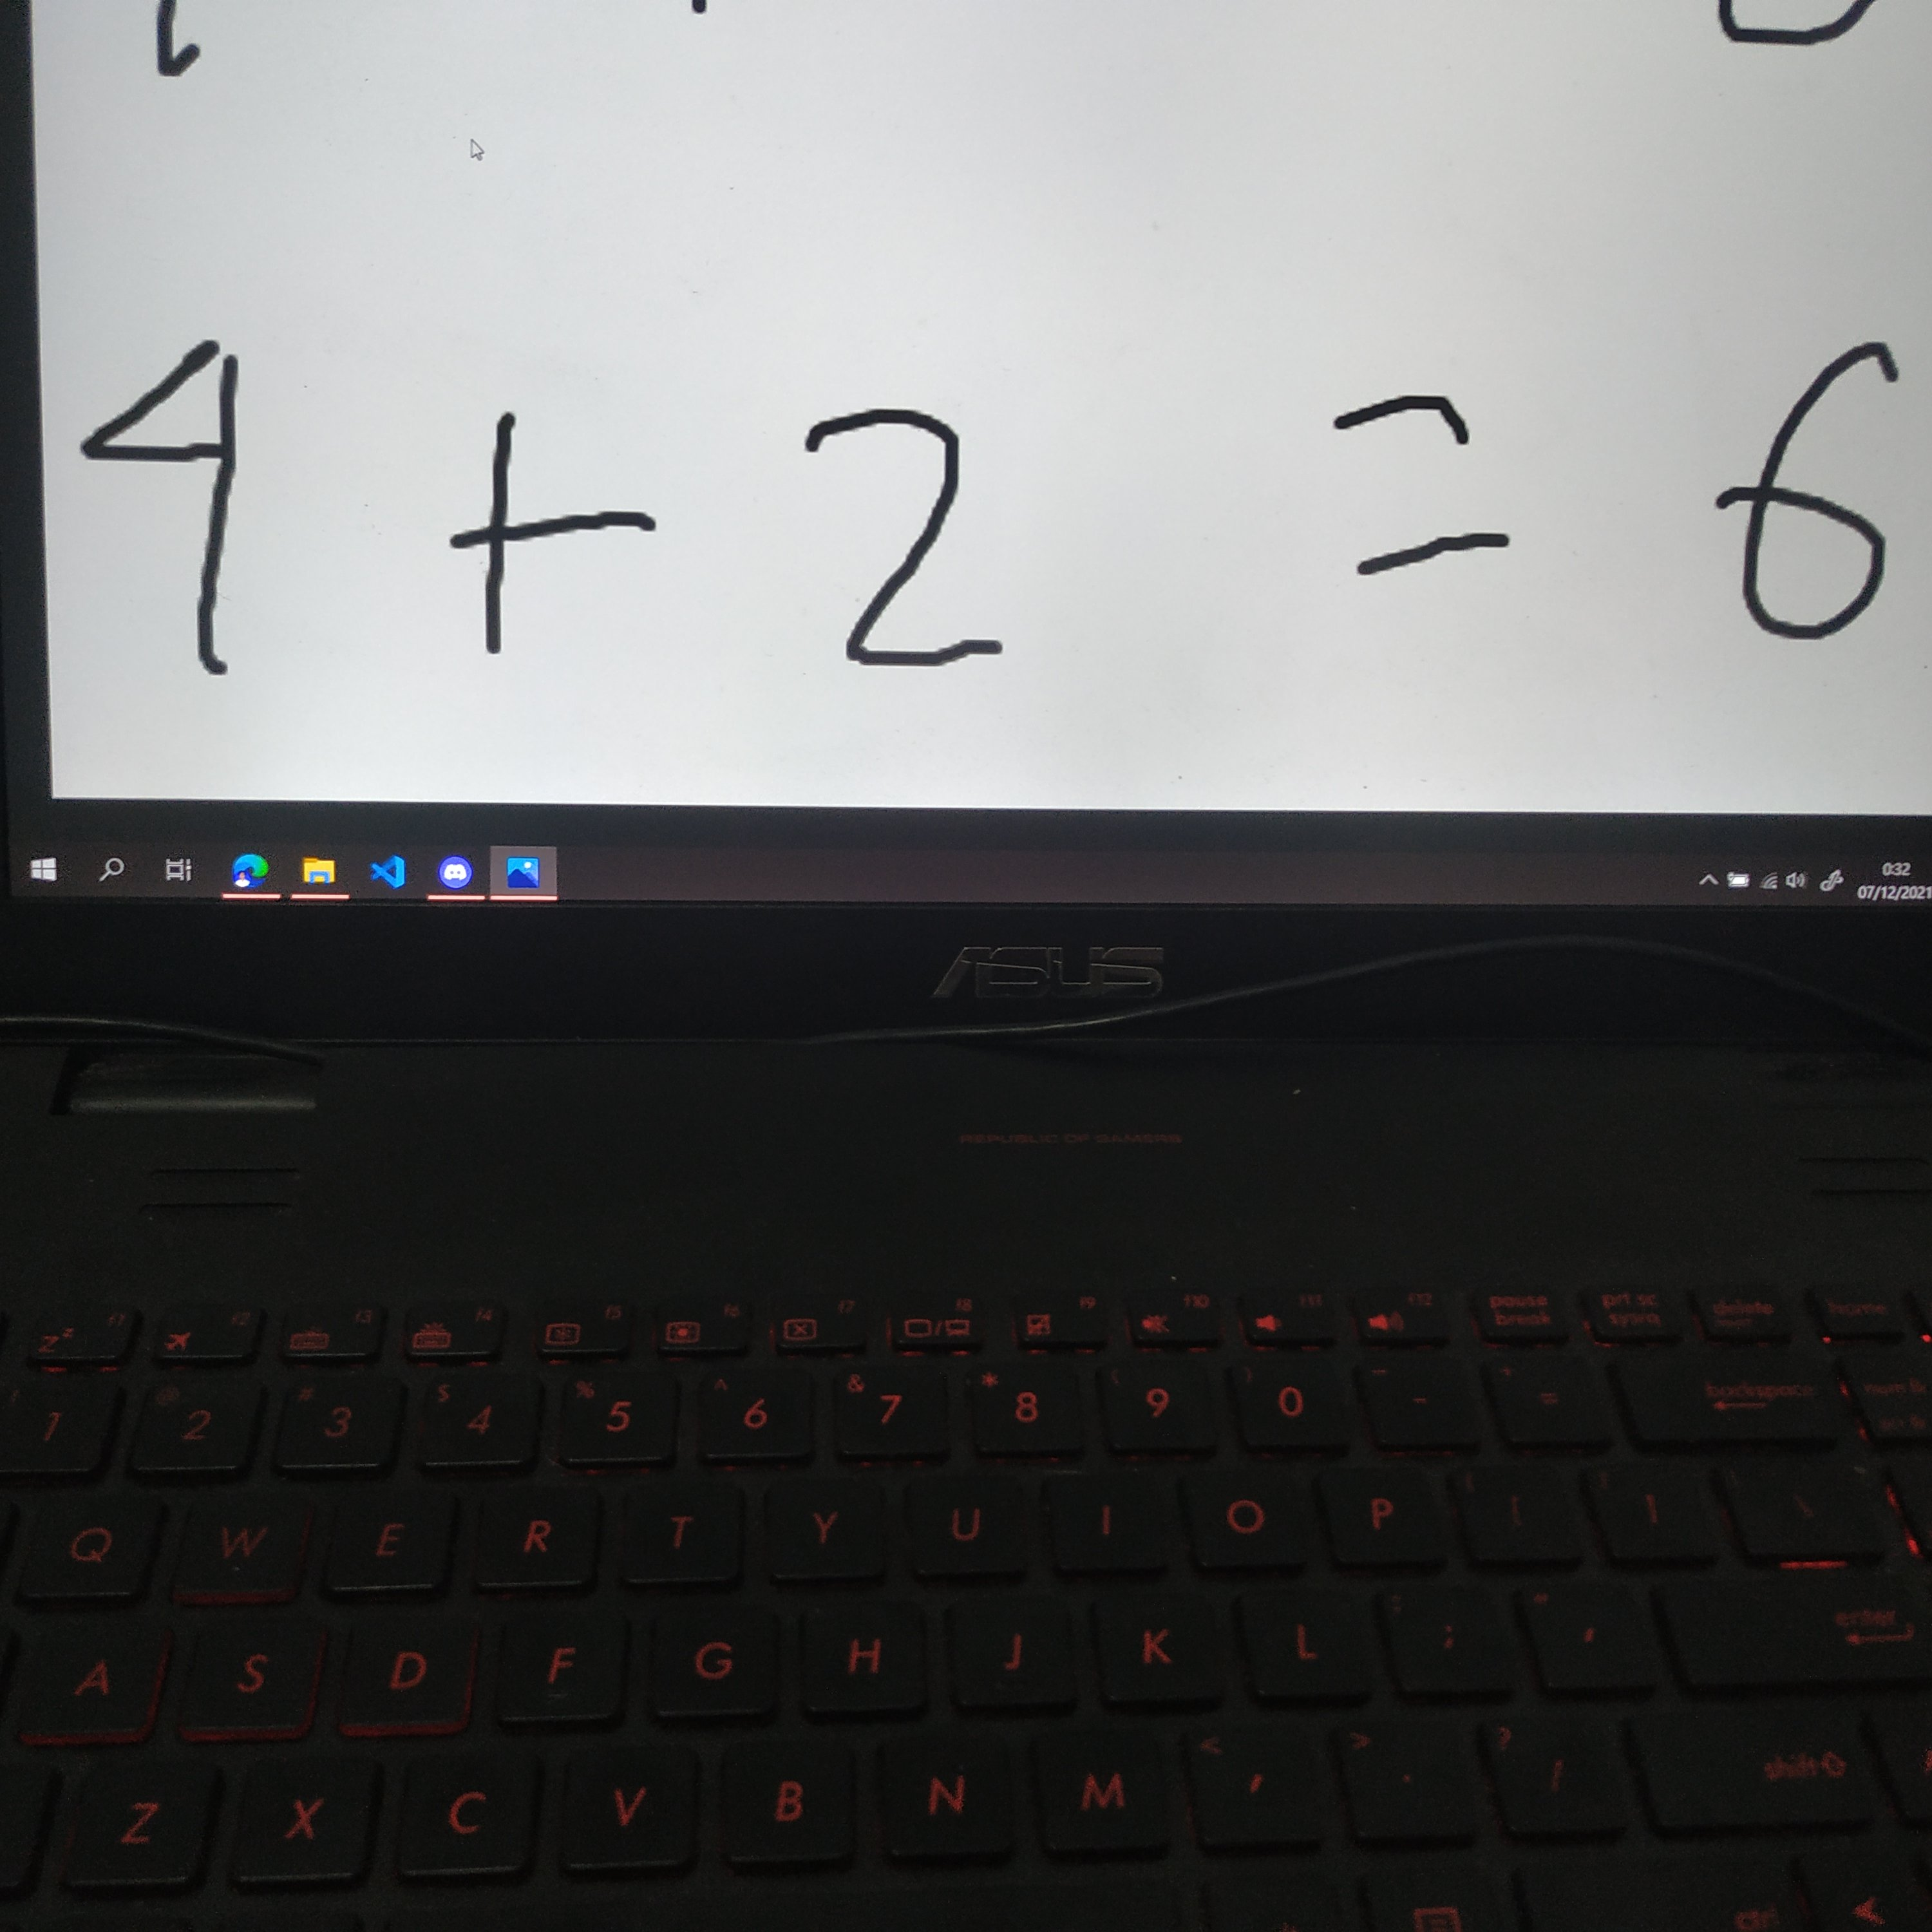equal: (1293, 374, 1558, 598)
num2: (777, 392, 1079, 696)
num4: (62, 314, 323, 704)
num6: (1698, 322, 1932, 679)
sum: (424, 392, 677, 658)
